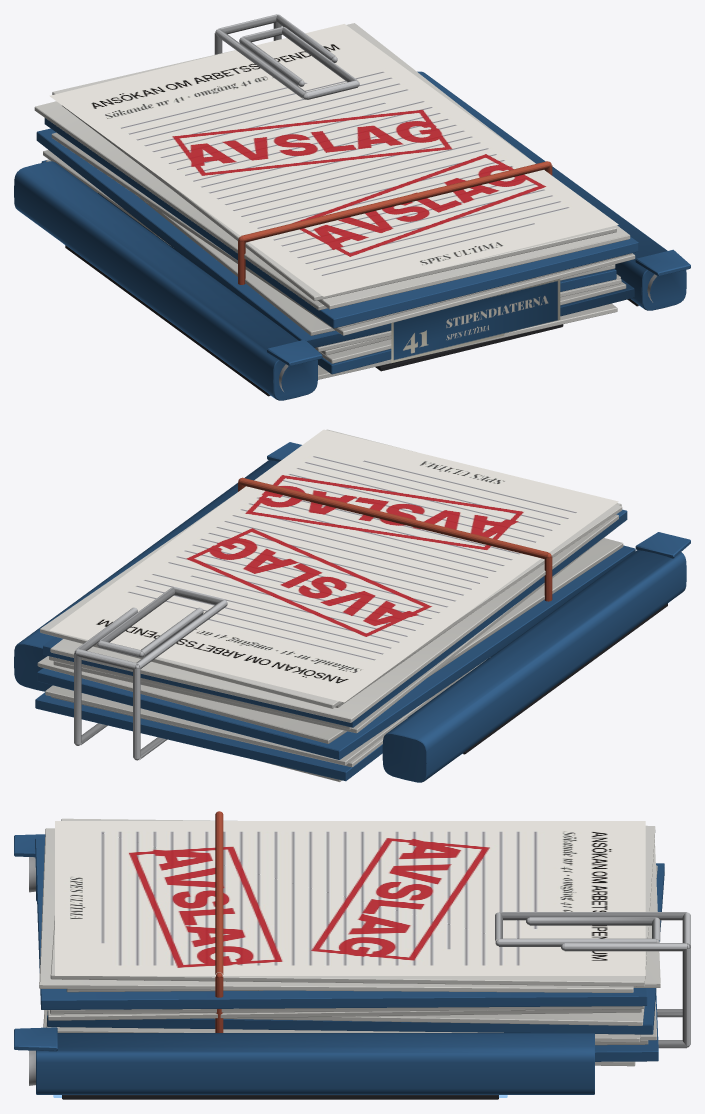
Rendered from craft_5.glb.
3 renders of one model, top to bottom at view 1: azimuth 30°, elevation 25°; view 2: azimuth 150°, elevation 25°; view 3: azimuth 270°, elevation 25°, orthographic. The views are drawn at different scales.
Parts seen in each view (by area): view 1: craft_5_avslag, craft_5_stack, craft_5_kit, craft_5_stern, flap_R_plate, flap_L_plate; view 2: craft_5_avslag, craft_5_stack, craft_5_kit, flap_L_plate; view 3: craft_5_avslag, craft_5_kit, craft_5_stack, flap_R_plate, flap_L_plate.
Boxes of the visible parts, x1,y1,x2,y2 form: craft_5_avslag: [49, 24, 618, 296]; craft_5_stack: [34, 23, 638, 379]; craft_5_kit: [14, 14, 686, 400]; craft_5_stern: [391, 279, 560, 363]; flap_R_plate: [635, 249, 690, 276]; flap_L_plate: [267, 339, 322, 366]; craft_5_avslag: [49, 429, 618, 702]; craft_5_stack: [35, 429, 635, 781]; craft_5_kit: [14, 460, 686, 782]; flap_L_plate: [635, 532, 690, 558]; craft_5_avslag: [55, 821, 645, 975]; craft_5_kit: [29, 811, 690, 1099]; craft_5_stack: [35, 818, 664, 1066]; flap_R_plate: [14, 1027, 57, 1051]; flap_L_plate: [14, 834, 45, 857].
Size of the model in its own units: 5.88 by 1.33 by 7.75.
Materials: 11 (3 with a texture image).
